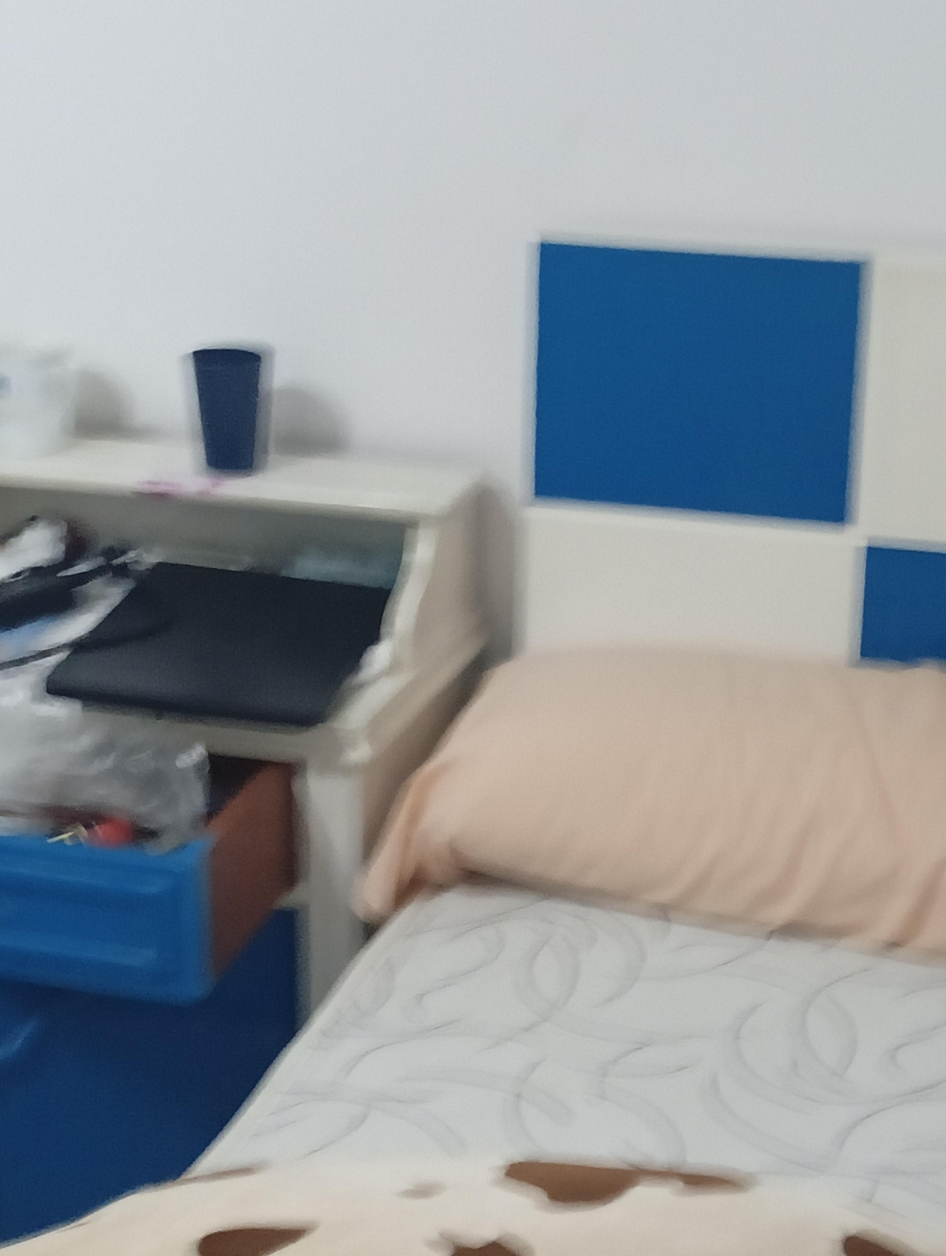cup: (191, 347, 262, 474), (0, 344, 75, 457)
